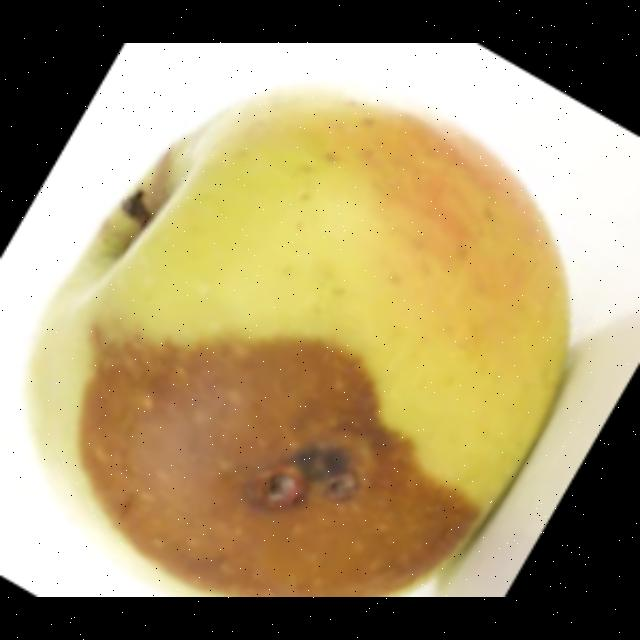Apel Tidak Segar: (16, 73, 580, 597)
